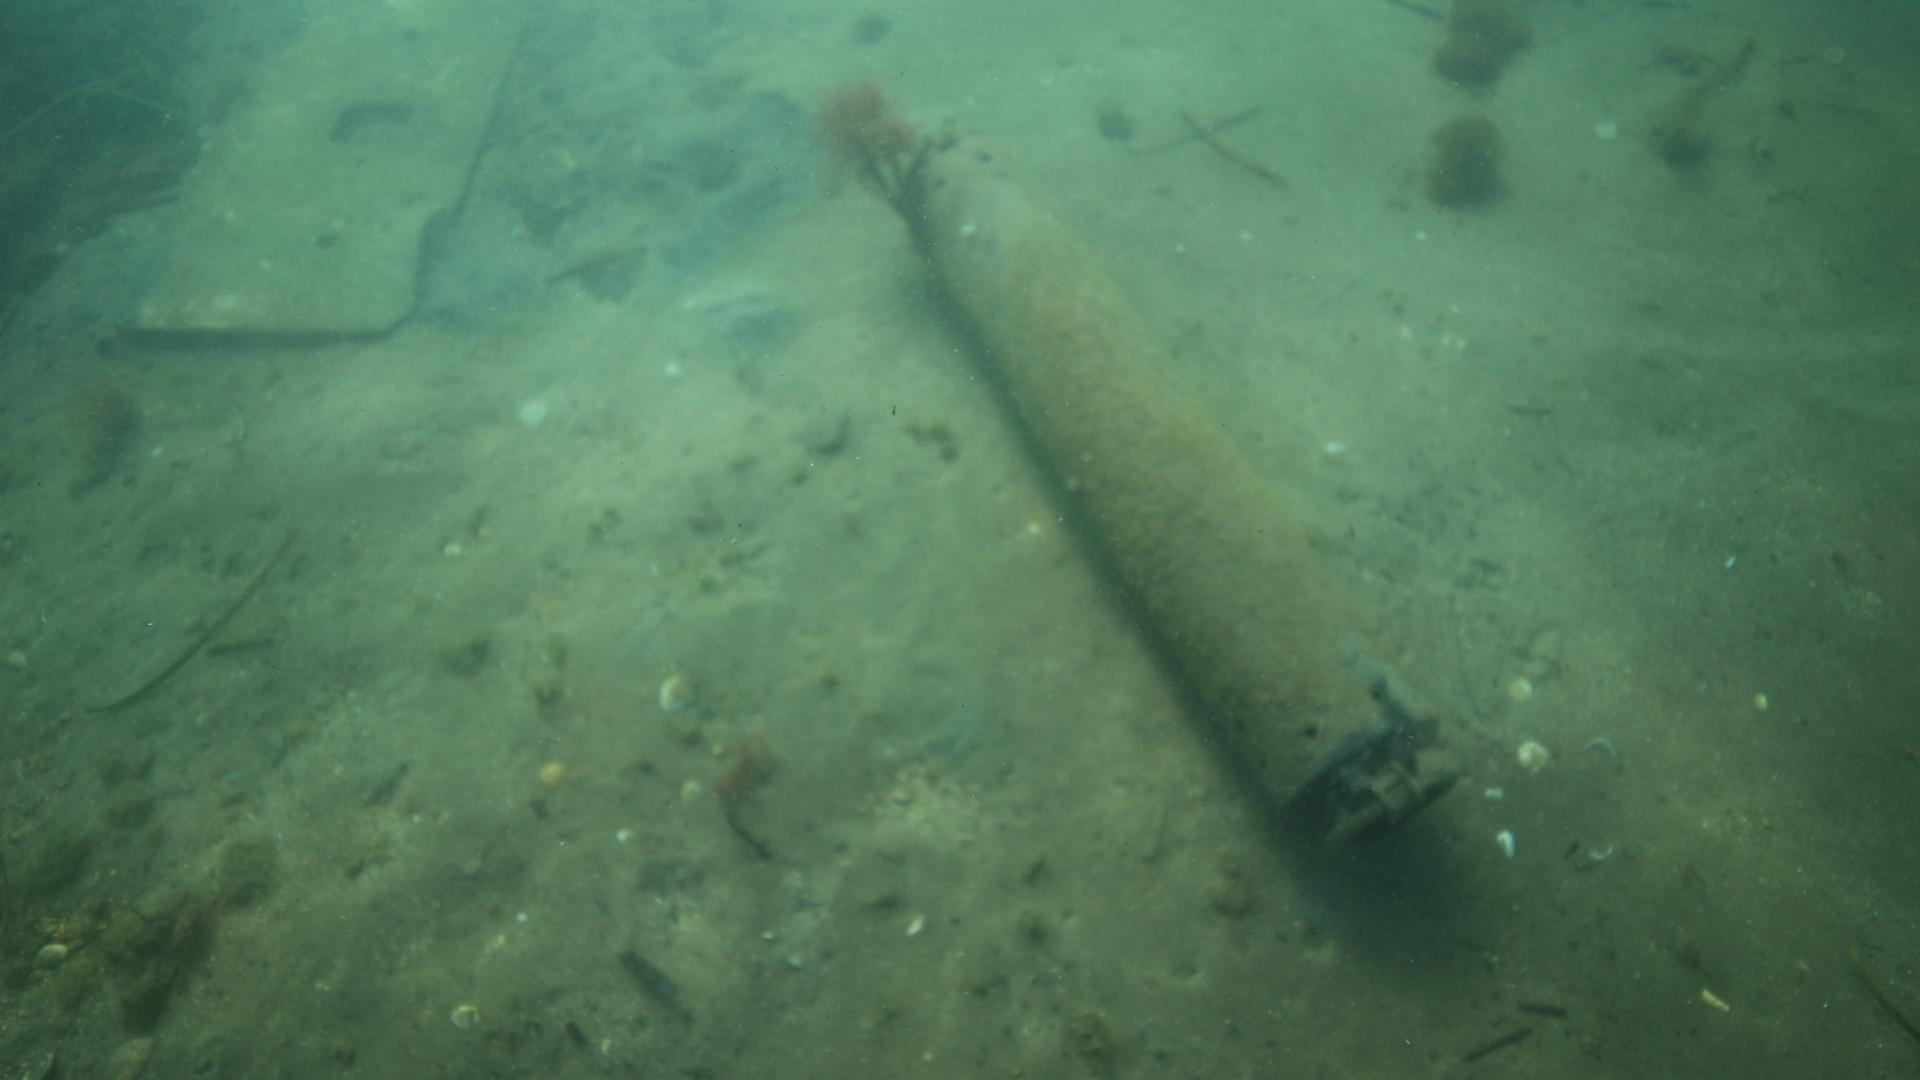eel fish trap: (897, 128, 1460, 845)
